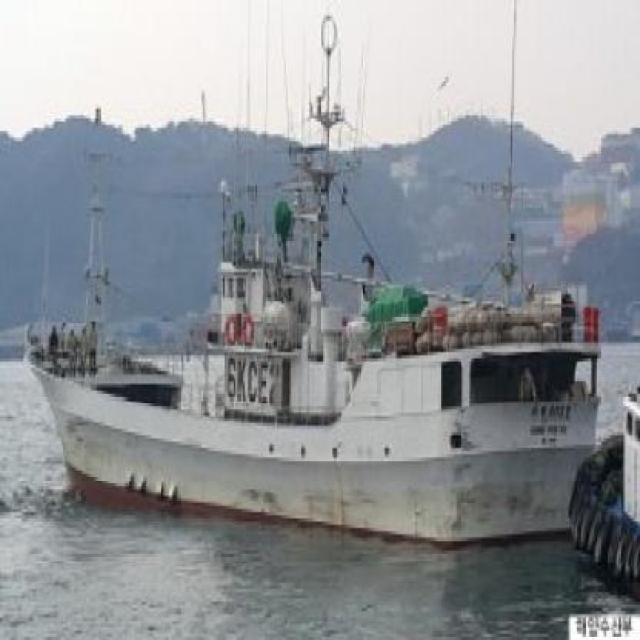fish-b: (15, 42, 609, 555)
